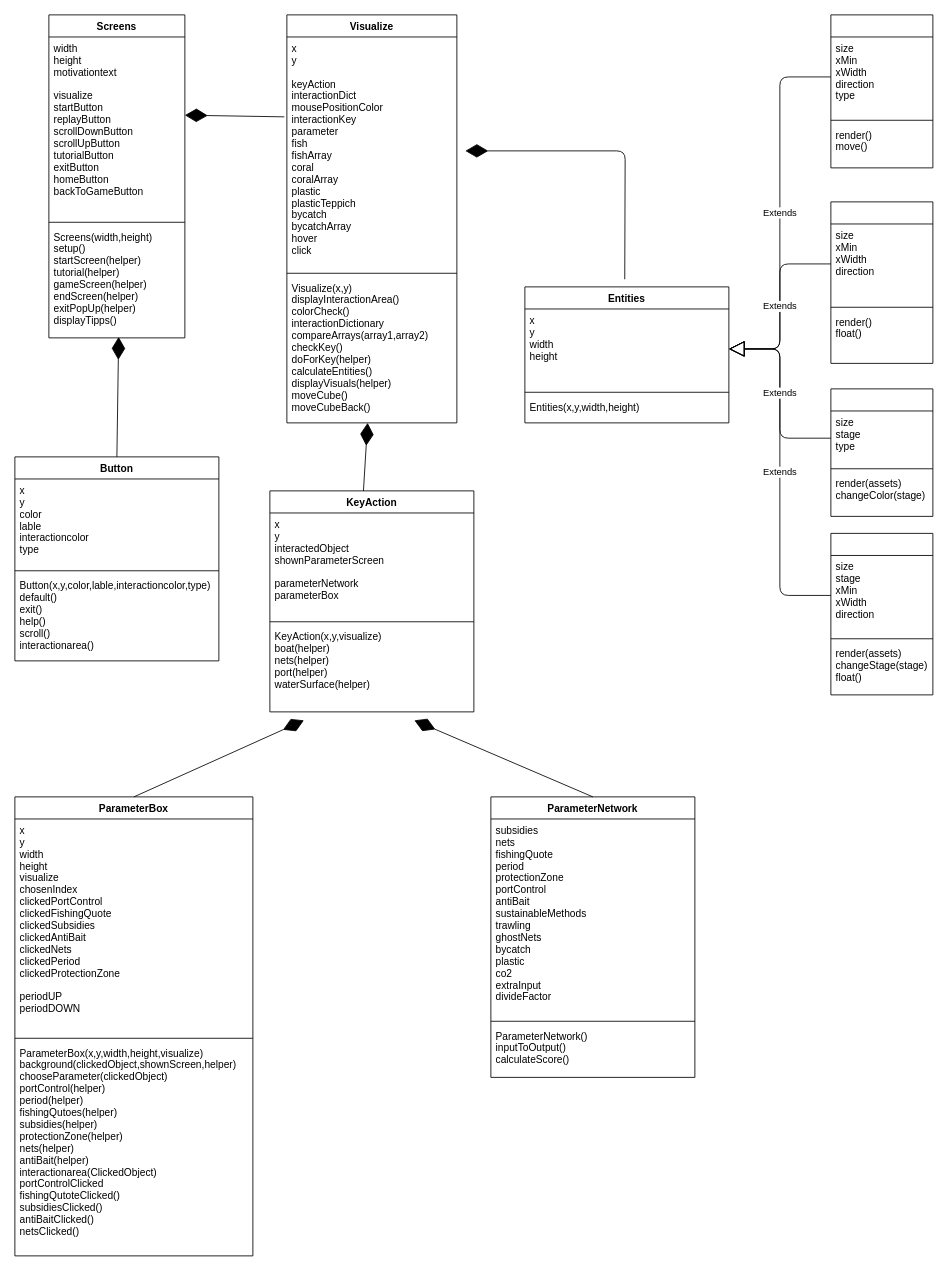
This 948x1273 diagram has some shape labels left out. Each missing label, with the box of its shape:
Bycatch: (830, 201, 933, 363)
Coral: (830, 388, 933, 516)
Fish: (830, 14, 933, 168)
Plastic: (830, 533, 933, 695)
